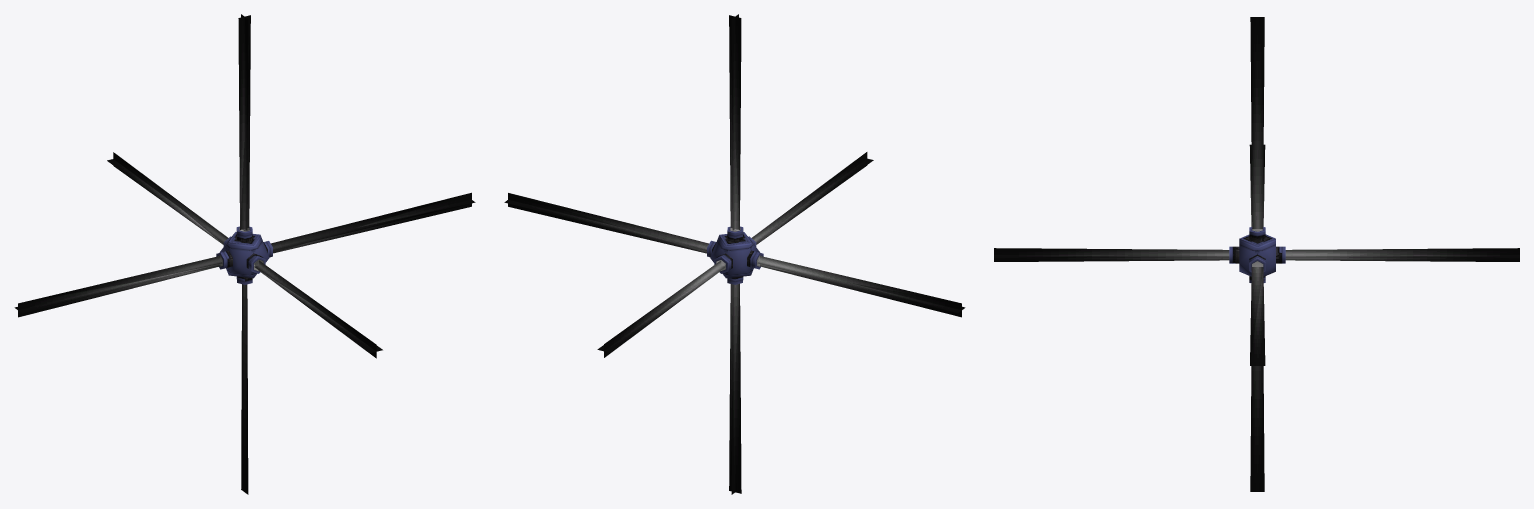
File: stg300_MotLightballB_e2_05.obj
3 views of the same model, side by side, from view 1: azimuth 30°, elevation 25°; view 2: azimuth 150°, elevation 25°; view 3: azimuth 270°, elevation 25° (orthographic).
Parts seen in each view (by area): view 1: polygon1, polygon2, polygon6, polygon0, polygon3, polygon4, polygon5; view 2: polygon1, polygon2, polygon6, polygon5, polygon0, polygon4, polygon3; view 3: polygon3, polygon4, polygon6, polygon0, polygon5, polygon2.
Boxes of the visible parts, <box> form: polygon1: <box>14,255,222,317</box>; polygon2: <box>270,192,475,253</box>; polygon6: <box>238,14,250,231</box>; polygon0: <box>216,226,272,284</box>; polygon3: <box>254,259,382,358</box>; polygon4: <box>107,152,228,244</box>; polygon5: <box>241,284,248,494</box>; polygon1: <box>757,255,965,317</box>; polygon2: <box>504,193,708,253</box>; polygon6: <box>729,14,741,231</box>; polygon5: <box>729,283,741,494</box>; polygon0: <box>707,226,763,284</box>; polygon4: <box>597,260,725,357</box>; polygon3: <box>752,152,873,244</box>; polygon3: <box>994,248,1229,261</box>; polygon4: <box>1285,248,1519,261</box>; polygon6: <box>1250,17,1264,231</box>; polygon0: <box>1229,227,1285,283</box>; polygon5: <box>1250,366,1264,491</box>; polygon2: <box>1250,261,1265,365</box>.
Size of the model in its own units: 801 by 803 by 805.
2 materials, 2 textured.
